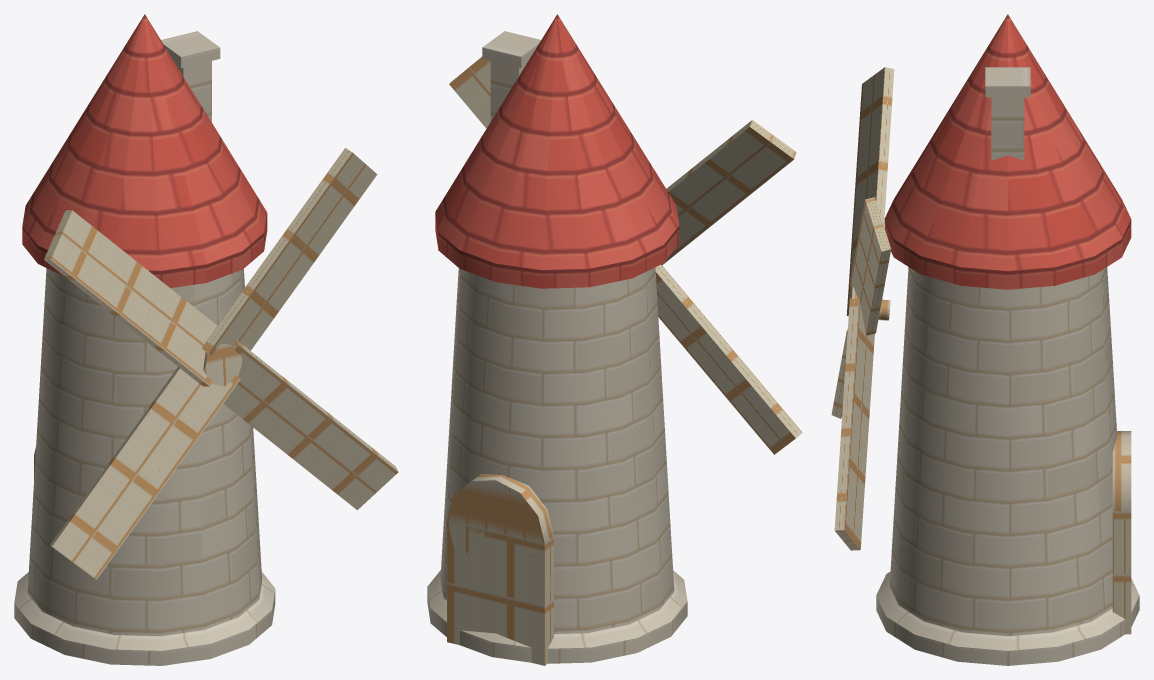
The model's file is mill.gltf.
The picture shows the model from 3 angles, left to right: view 1: azimuth 30°, elevation 25°; view 2: azimuth 150°, elevation 25°; view 3: azimuth 270°, elevation 25°; orthographic projection.
Parts seen in each view (by area): view 1: mill, mill_sails; view 2: mill, mill_sails; view 3: mill, mill_sails.
Boxes of the visible parts, x1,y1,x2,y2 form: mill: (14, 14, 275, 665); mill_sails: (44, 148, 398, 579); mill: (427, 14, 687, 665); mill_sails: (449, 56, 802, 454); mill: (876, 14, 1139, 665); mill_sails: (831, 67, 894, 550).
Size of the model in its own units: 1.9 by 3.2 by 1.5.
Materials: 3 (3 with a texture image).
